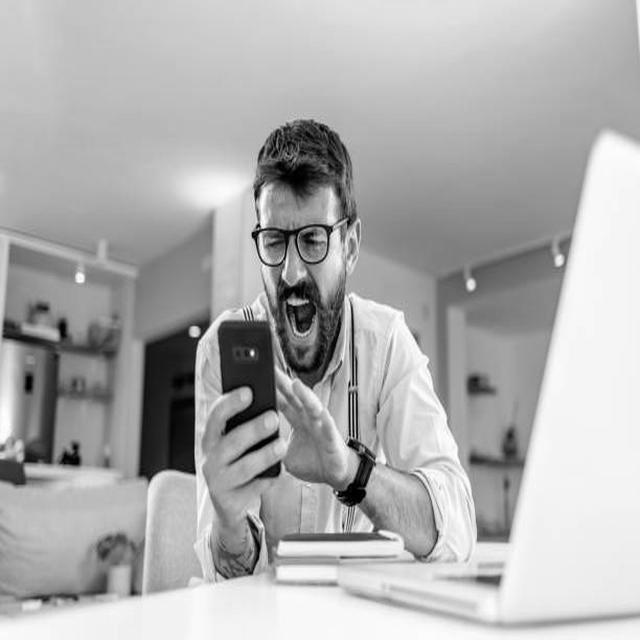Angry: (261, 182, 348, 375)
